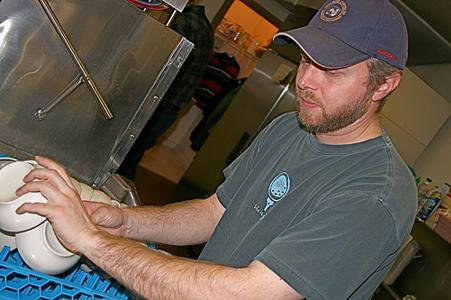person: (18, 2, 418, 300)
